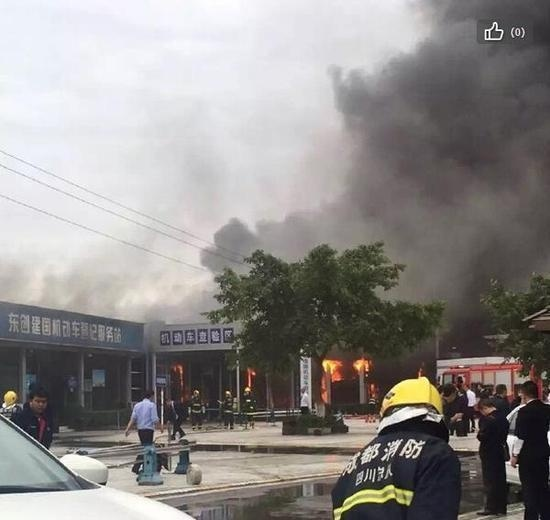fire: (169, 360, 186, 393), (320, 357, 341, 378), (353, 354, 371, 371), (243, 367, 255, 389)
